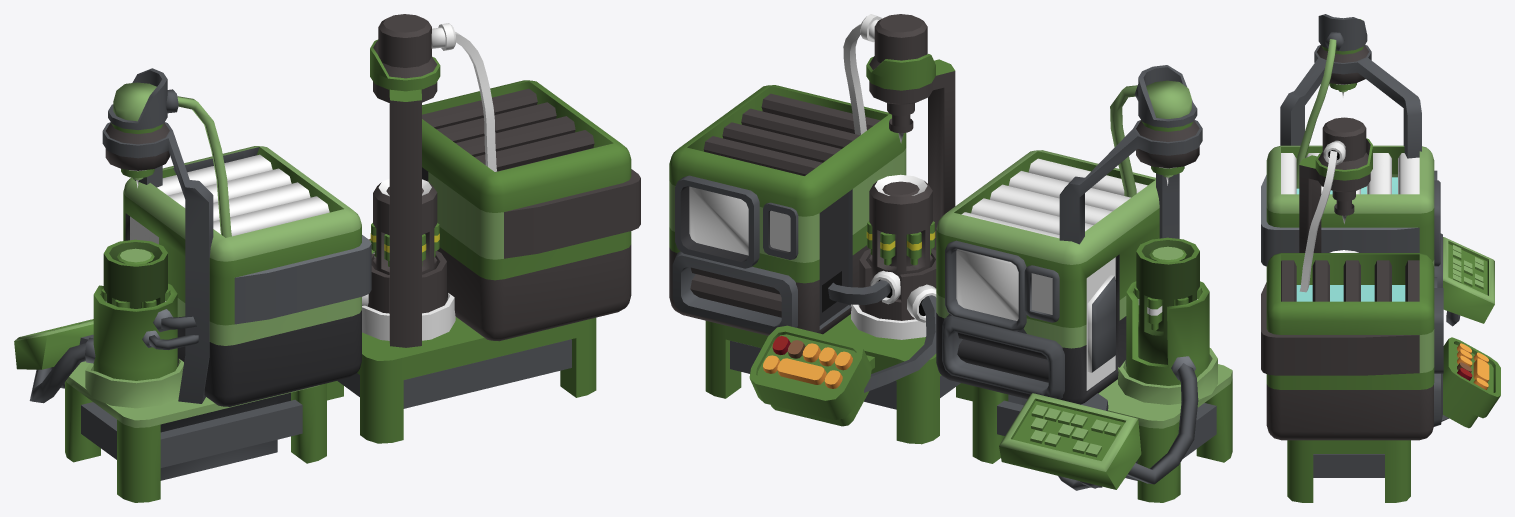
File: Biogenerator.fbx
The picture shows the model from 3 angles, left to right: view 1: azimuth 30°, elevation 25°; view 2: azimuth 150°, elevation 25°; view 3: azimuth 270°, elevation 25°; orthographic projection. The views are drawn at different scales.
Parts seen in each view (by area): view 1: Biogenerator, BiogeneratorV2; view 2: BiogeneratorV2, Biogenerator; view 3: BiogeneratorV2, Biogenerator.
Part boxes in pixels (x1,y1,x2,y2): Biogenerator: (14, 68, 371, 502); BiogeneratorV2: (327, 14, 640, 443); BiogeneratorV2: (669, 14, 972, 444); Biogenerator: (936, 65, 1232, 502); BiogeneratorV2: (1261, 117, 1500, 502); Biogenerator: (1261, 14, 1494, 326).
Size of the model in its own units: 1.93 by 1.39 by 0.9432.
